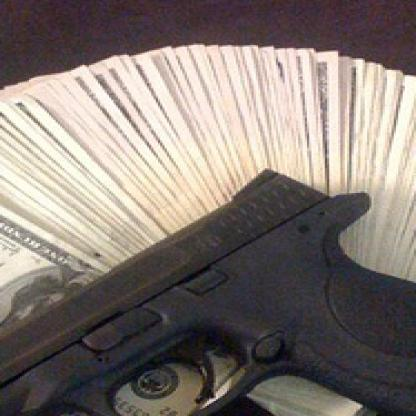gun: (0, 166, 414, 414)
